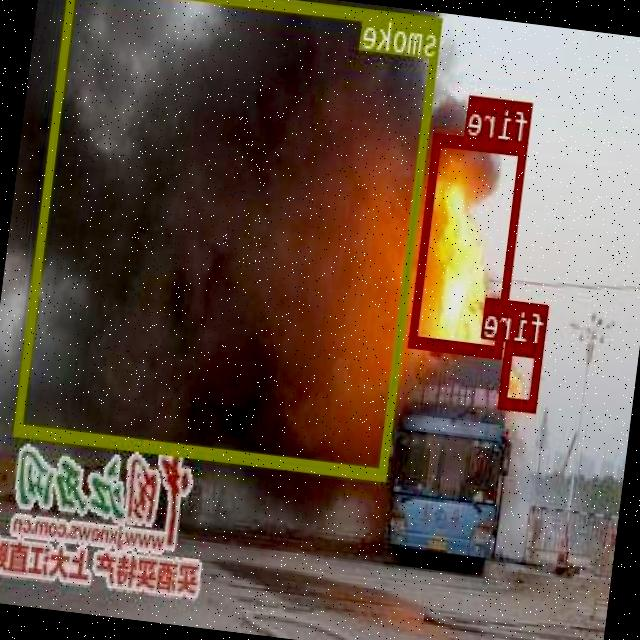fire: (409, 130, 528, 357), (500, 342, 544, 409)
smoke: (16, 0, 443, 479)
